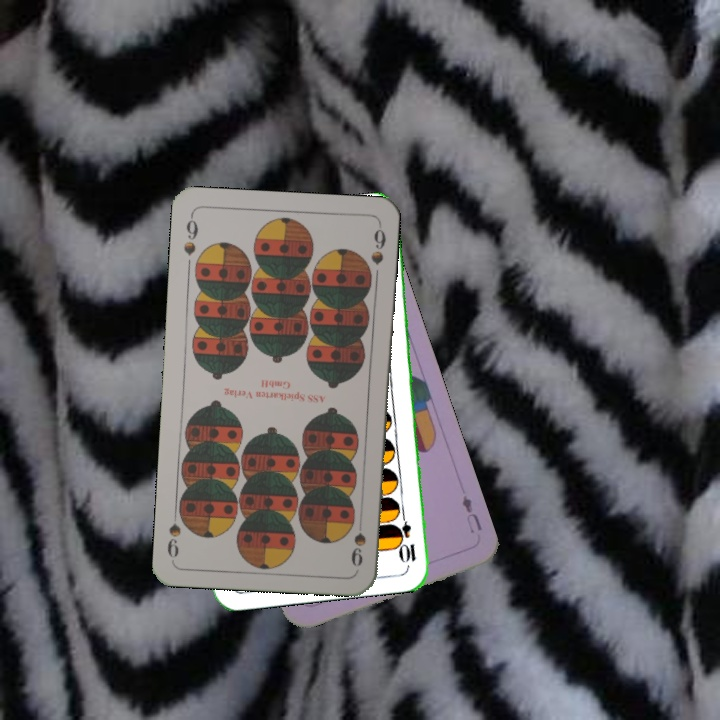E10: (395, 506, 419, 565)
EU: (458, 491, 485, 536)
S9: (347, 511, 369, 569), (179, 211, 201, 258)
